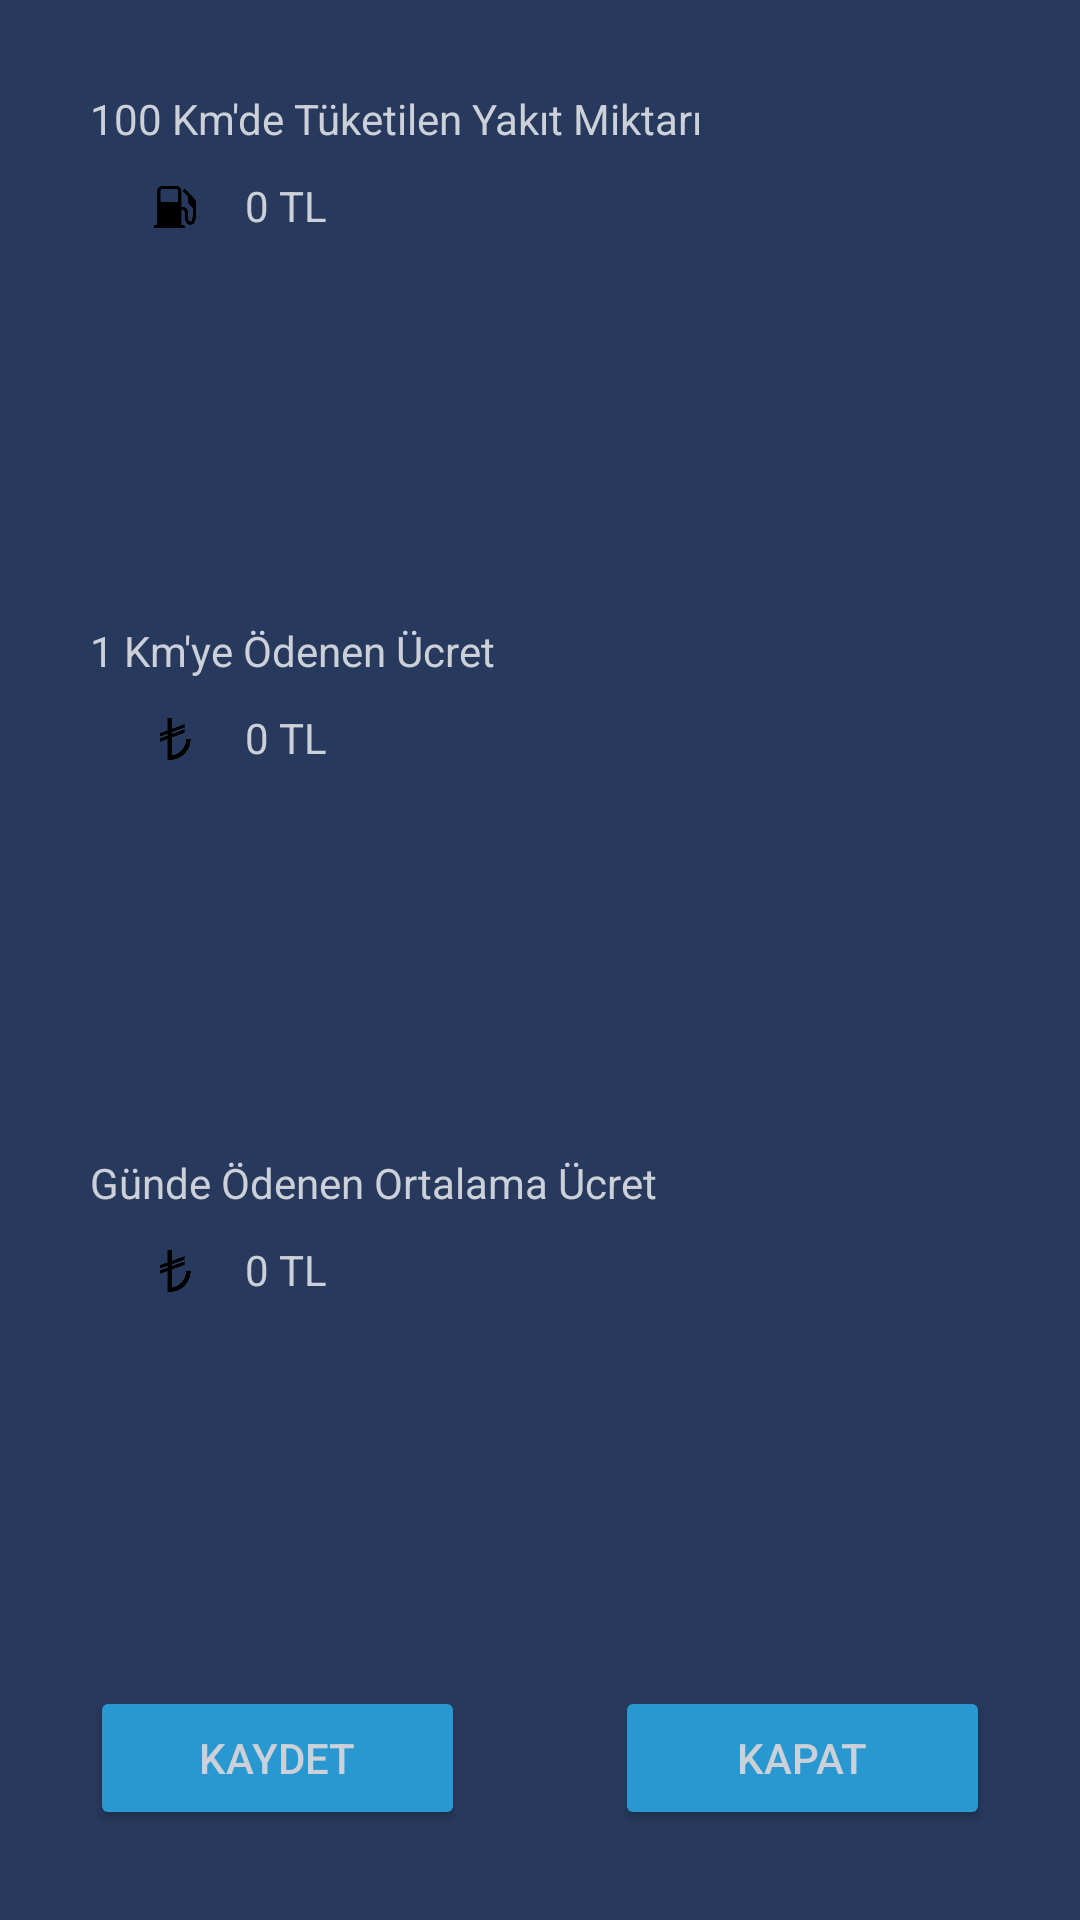

Screen size 1080*1920. Icon name, then its box in pixels as (x1, y1, x2, y2):
ucret: (160, 718, 191, 760), (160, 1250, 191, 1292)
yakit: (154, 186, 196, 228)
